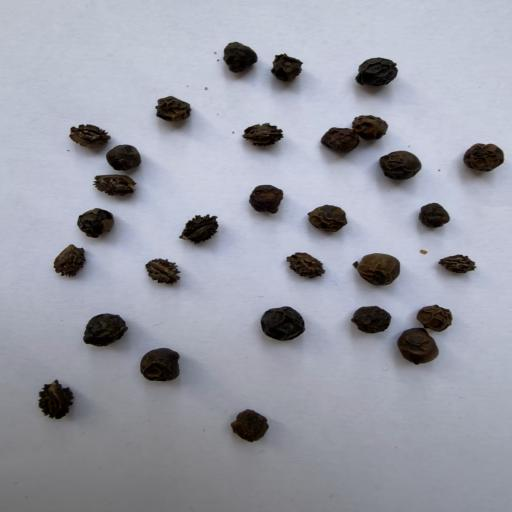Black_pepper: (82, 302, 139, 356), (347, 290, 397, 339), (348, 252, 412, 290), (134, 340, 190, 382), (254, 301, 310, 342), (305, 204, 362, 242), (374, 147, 431, 185), (348, 55, 406, 89), (268, 49, 316, 90), (392, 328, 441, 367), (216, 37, 264, 76), (225, 407, 276, 443), (458, 140, 512, 174), (242, 181, 291, 217), (345, 109, 397, 138), (72, 205, 118, 236), (100, 143, 148, 172), (152, 94, 198, 124), (415, 301, 458, 332), (318, 127, 360, 158), (414, 200, 454, 228)
papaya_seed: (30, 378, 82, 422), (241, 118, 289, 155), (174, 210, 222, 247), (49, 241, 90, 283), (141, 254, 185, 292), (86, 174, 141, 201), (66, 120, 113, 149), (282, 251, 326, 281), (435, 249, 476, 279)
